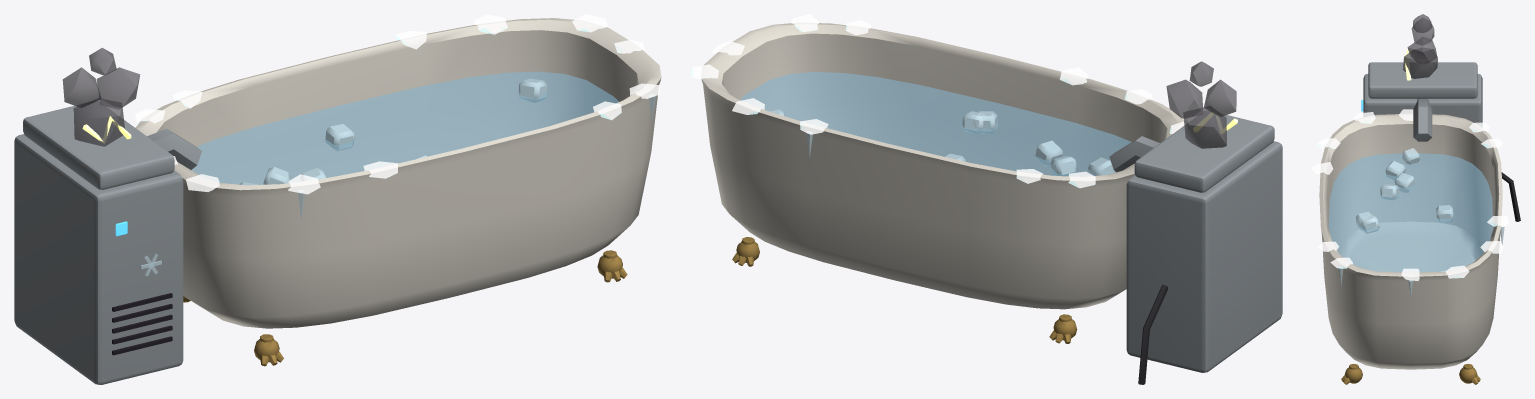
File: tub_icebath.glb
3 views of the same model, side by side, from view 1: azimuth 30°, elevation 25°; view 2: azimuth 150°, elevation 25°; view 3: azimuth 270°, elevation 25° (orthographic). The views are drawn at different scales.
Visible parts, largest first — view 1: tub_icebath, water, broken, frost; view 2: tub_icebath, water, broken, frost; view 3: tub_icebath, water, frost, broken.
Boxes of the visible parts, <box> form: tub_icebath: <box>14,18,661,384</box>; water: <box>191,71,619,185</box>; broken: <box>62,47,140,146</box>; frost: <box>135,14,659,220</box>; tub_icebath: <box>701,23,1282,384</box>; water: <box>740,72,1131,176</box>; broken: <box>1166,61,1237,148</box>; frost: <box>690,14,1187,188</box>; tub_icebath: <box>1319,62,1520,384</box>; water: <box>1328,148,1493,272</box>; frost: <box>1311,109,1508,297</box>; broken: <box>1403,14,1437,80</box>.
Size of the model in its own units: 1.96 by 0.9865 by 0.881.
